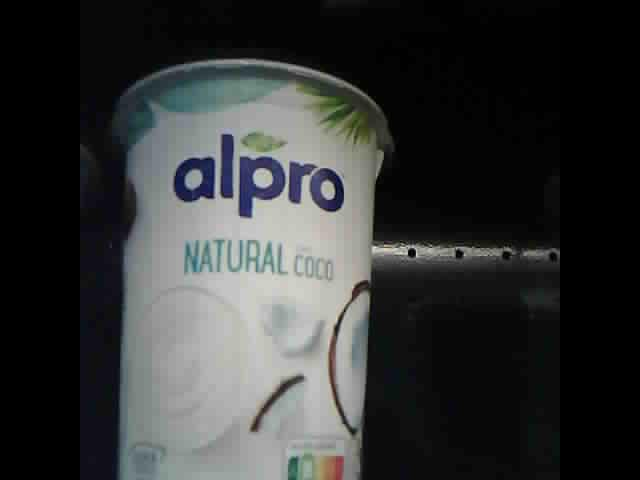alpro: (110, 59, 390, 480)
